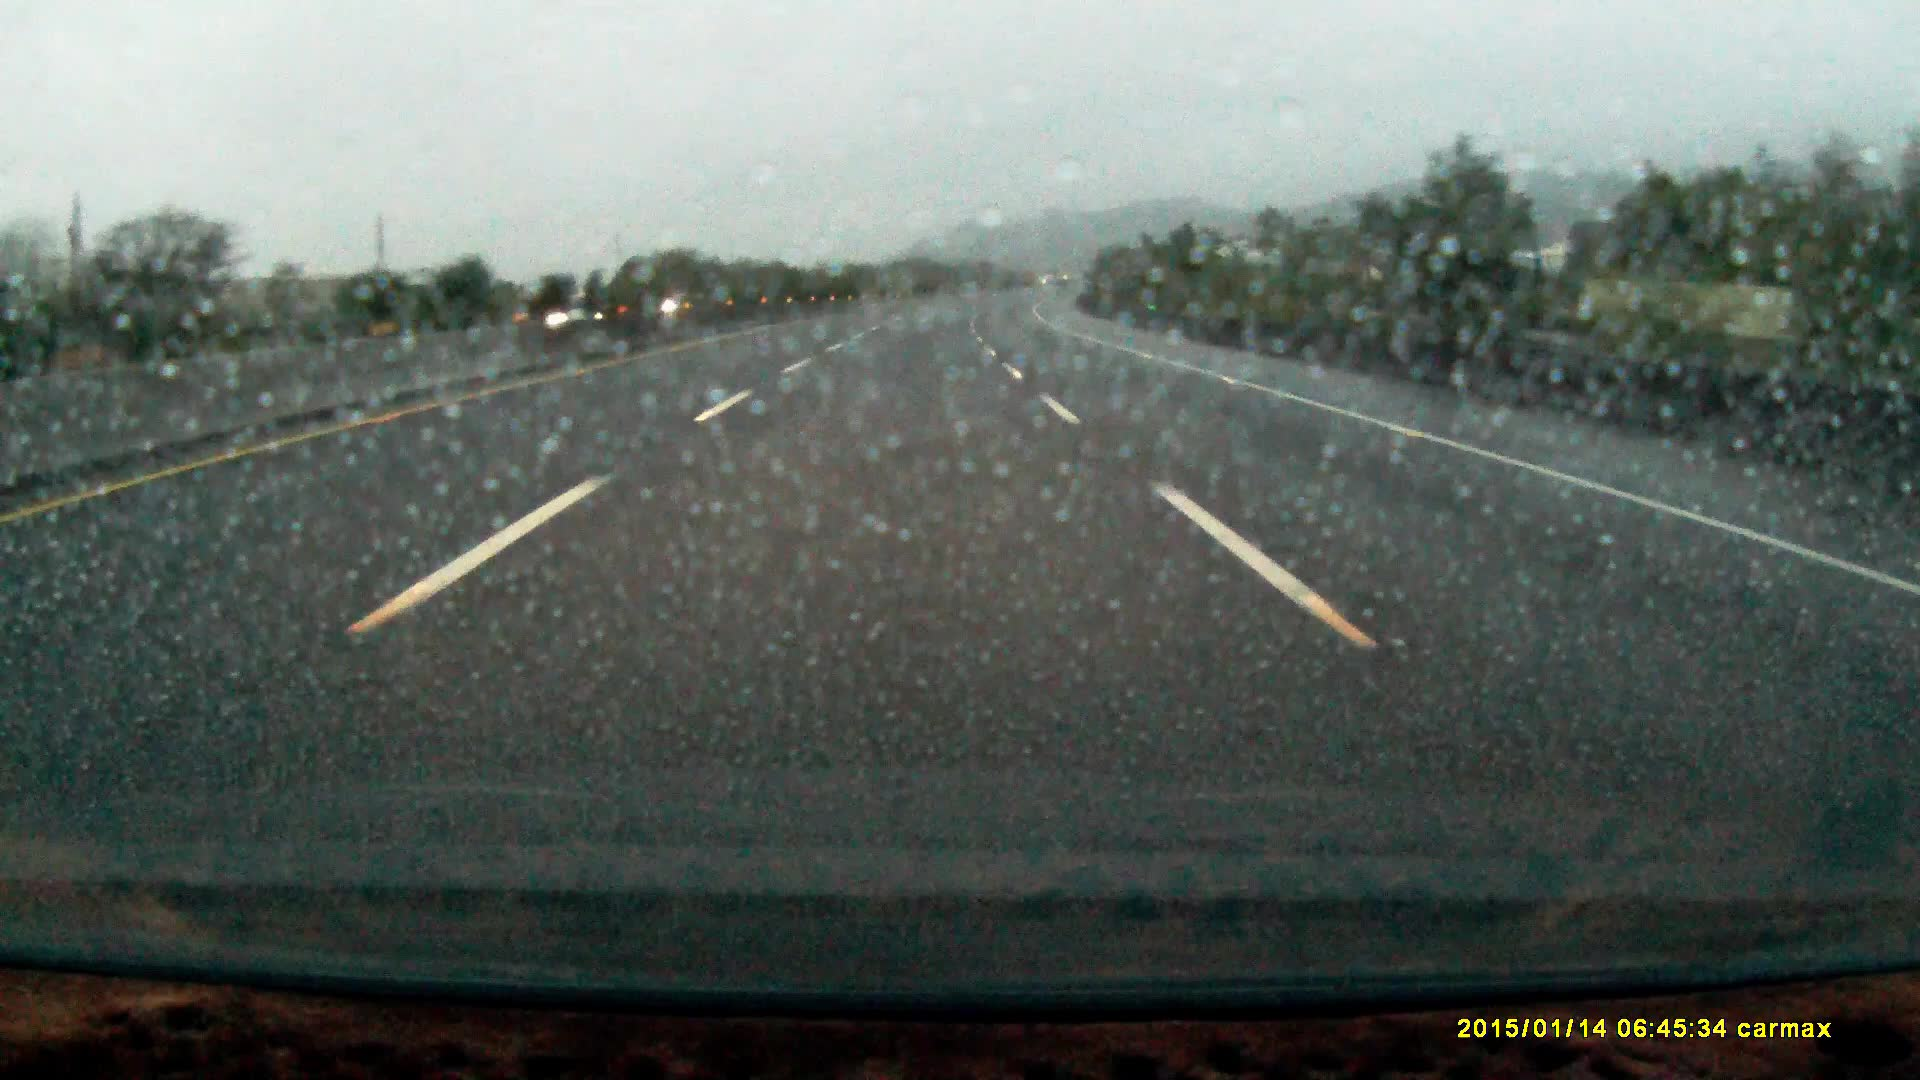vehicle: (551, 299, 638, 331), (658, 287, 724, 316)
